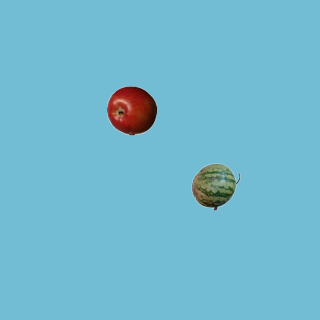Apple Braeburn: (106, 85, 156, 135)
Watermelon: (190, 161, 240, 211)
